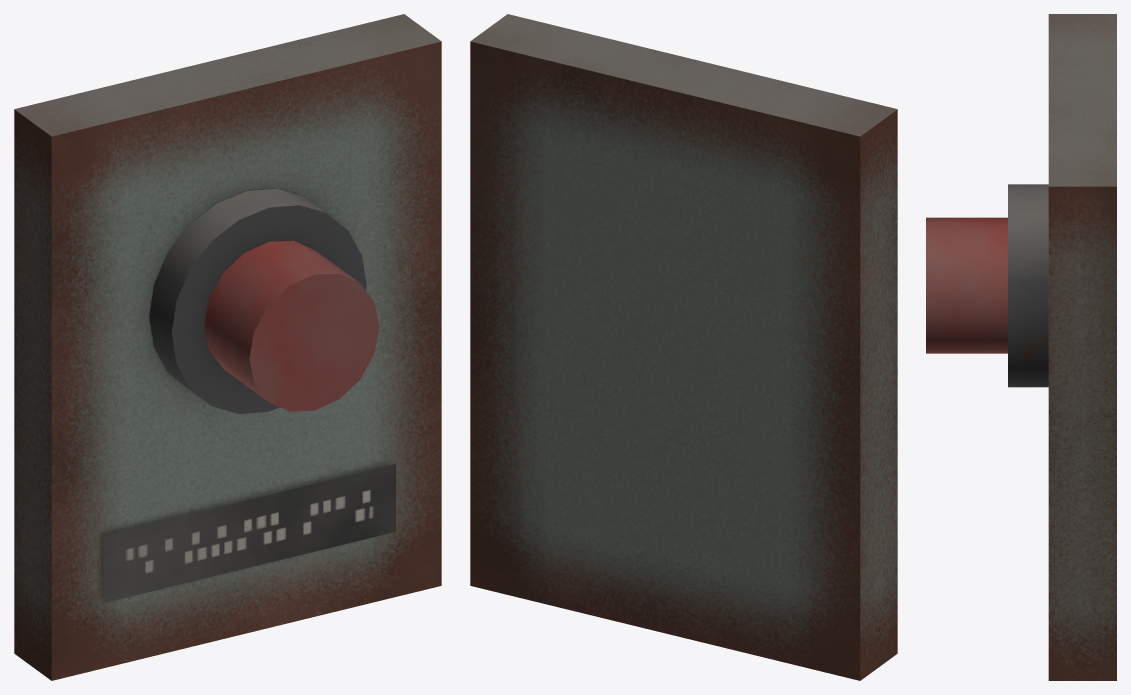
File: SM_Button_Push.fbx
3 views of the same model, side by side, from view 1: azimuth 30°, elevation 25°; view 2: azimuth 150°, elevation 25°; view 3: azimuth 270°, elevation 25° (orthographic). The views are drawn at different scales.
Parts seen in each view (by area): view 1: SM_Button_Push; view 2: SM_Button_Push; view 3: SM_Button_Push.
Part boxes in pixels (x1=…): SM_Button_Push: x1=14, y1=14, x2=441, y2=680; SM_Button_Push: x1=470, y1=14, x2=897, y2=680; SM_Button_Push: x1=926, y1=14, x2=1116, y2=680.
Size of the model in its own units: 0.06 by 0.08 by 0.028.
1 material, 1 textured.
